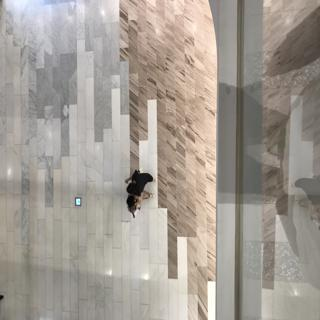person: (120, 171, 170, 191), (124, 196, 163, 219)
